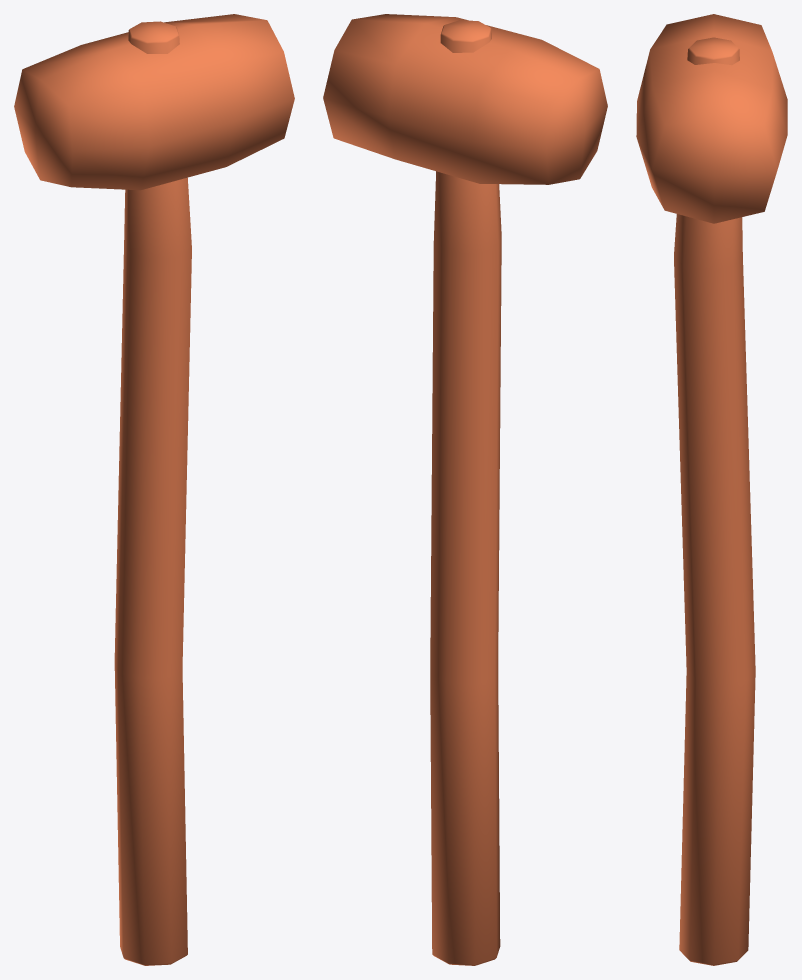
File: Wooden_Hammer.fbx
The picture shows the model from 3 angles, left to right: view 1: azimuth 30°, elevation 25°; view 2: azimuth 150°, elevation 25°; view 3: azimuth 270°, elevation 25°; orthographic projection.
Visible parts, largest first — view 1: Wooden_Hammer; view 2: Wooden_Hammer; view 3: Wooden_Hammer.
Boxes of the visible parts, box(x1,y1,x2,y2) form: Wooden_Hammer: box(14, 14, 294, 965); Wooden_Hammer: box(323, 14, 607, 965); Wooden_Hammer: box(636, 14, 787, 965).
Bounding box in the file's own units: 0.1413 × 0.5232 × 0.0787.
